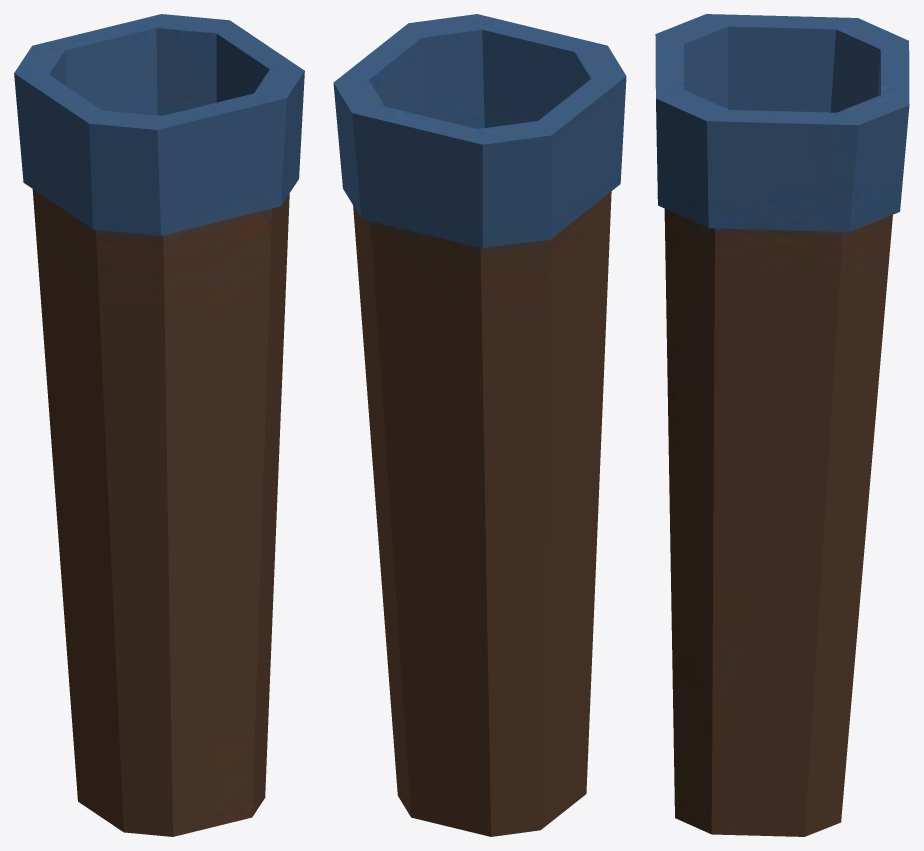
Rendered from Quiver_Blue.fbx.
3 views of the same model, side by side, from view 1: azimuth 30°, elevation 25°; view 2: azimuth 150°, elevation 25°; view 3: azimuth 270°, elevation 25° (orthographic).
Visible parts, largest first — view 1: Quiver_Blue_Baked; view 2: Quiver_Blue_Baked; view 3: Quiver_Blue_Baked.
Part boxes in pixels (box(x1,y1,x2,y2)): Quiver_Blue_Baked: box(14, 14, 304, 836); Quiver_Blue_Baked: box(333, 14, 626, 836); Quiver_Blue_Baked: box(655, 14, 909, 836).
Size of the model in its own units: 12.64 by 40.43 by 12.63.
1 material, 1 textured.
